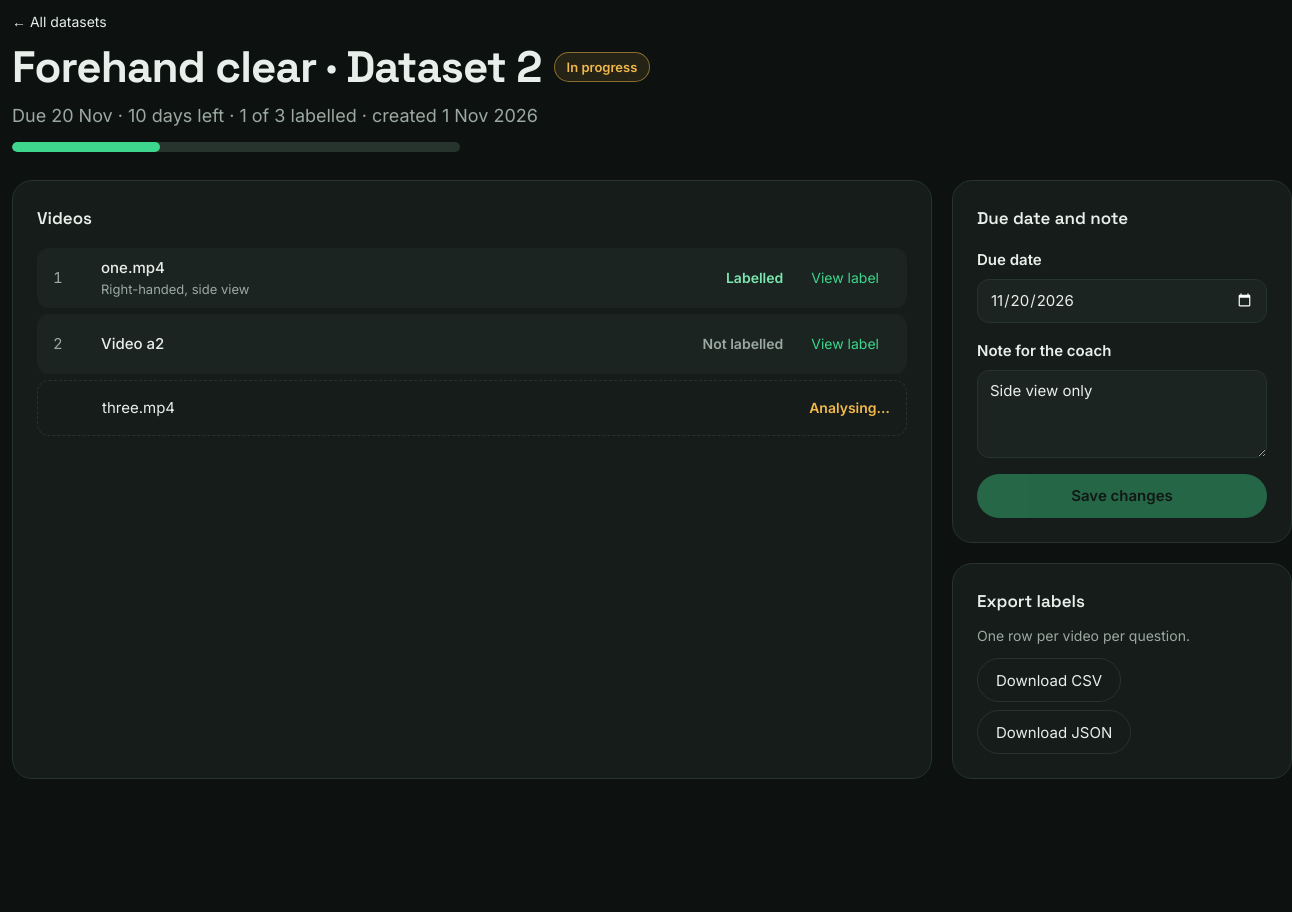
Test case: AdminDataset › saves a new due date
Expected: the button "Save changes" is disabled, x1=977 y1=474 x2=1267 y2=518
In the date field labelled "Due date": point(1122, 301) x1=977 y1=279 x2=1267 y2=323, type "2026-12-01"
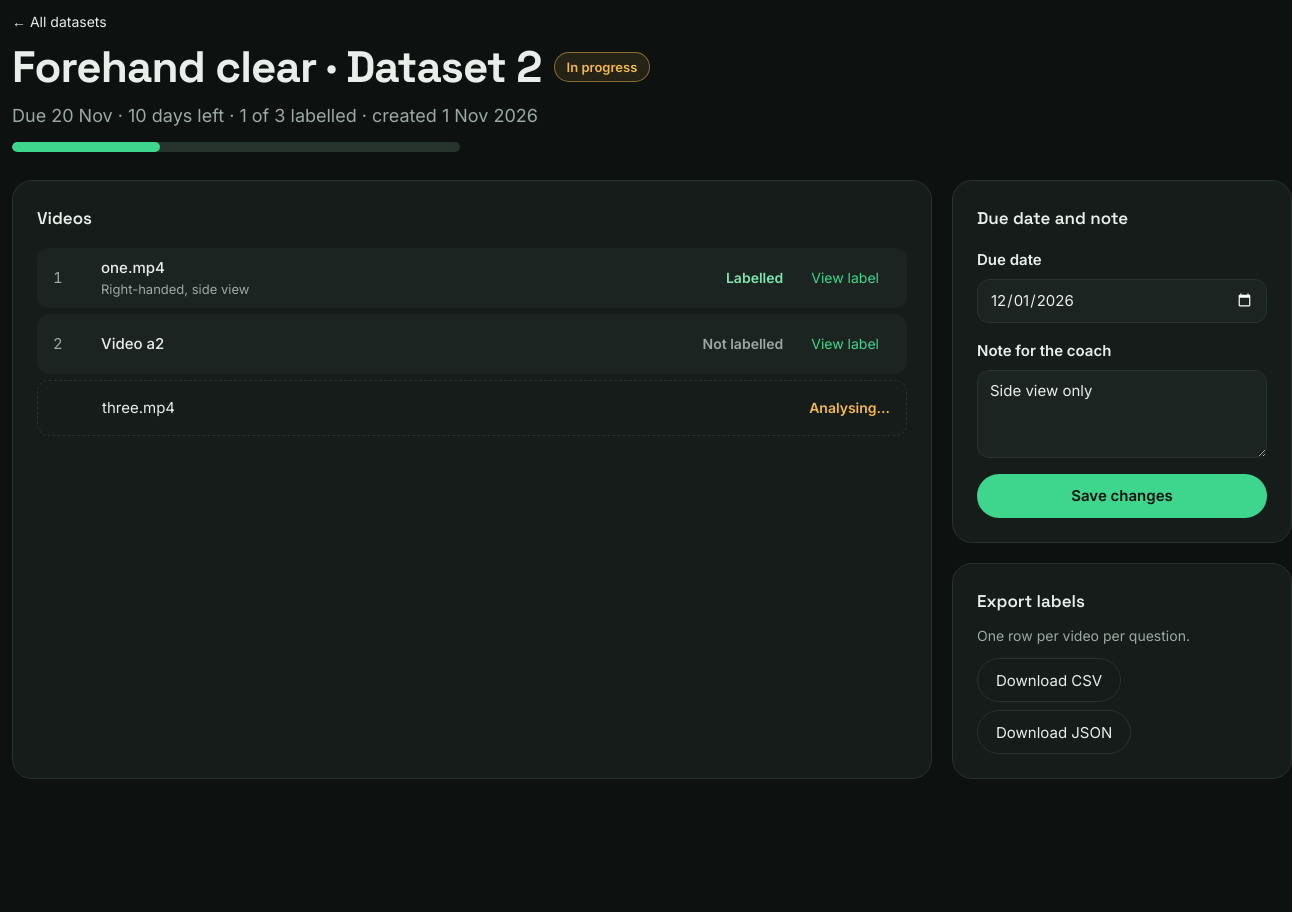
Click the button "Save changes": point(1122, 496) x1=977 y1=474 x2=1267 y2=518
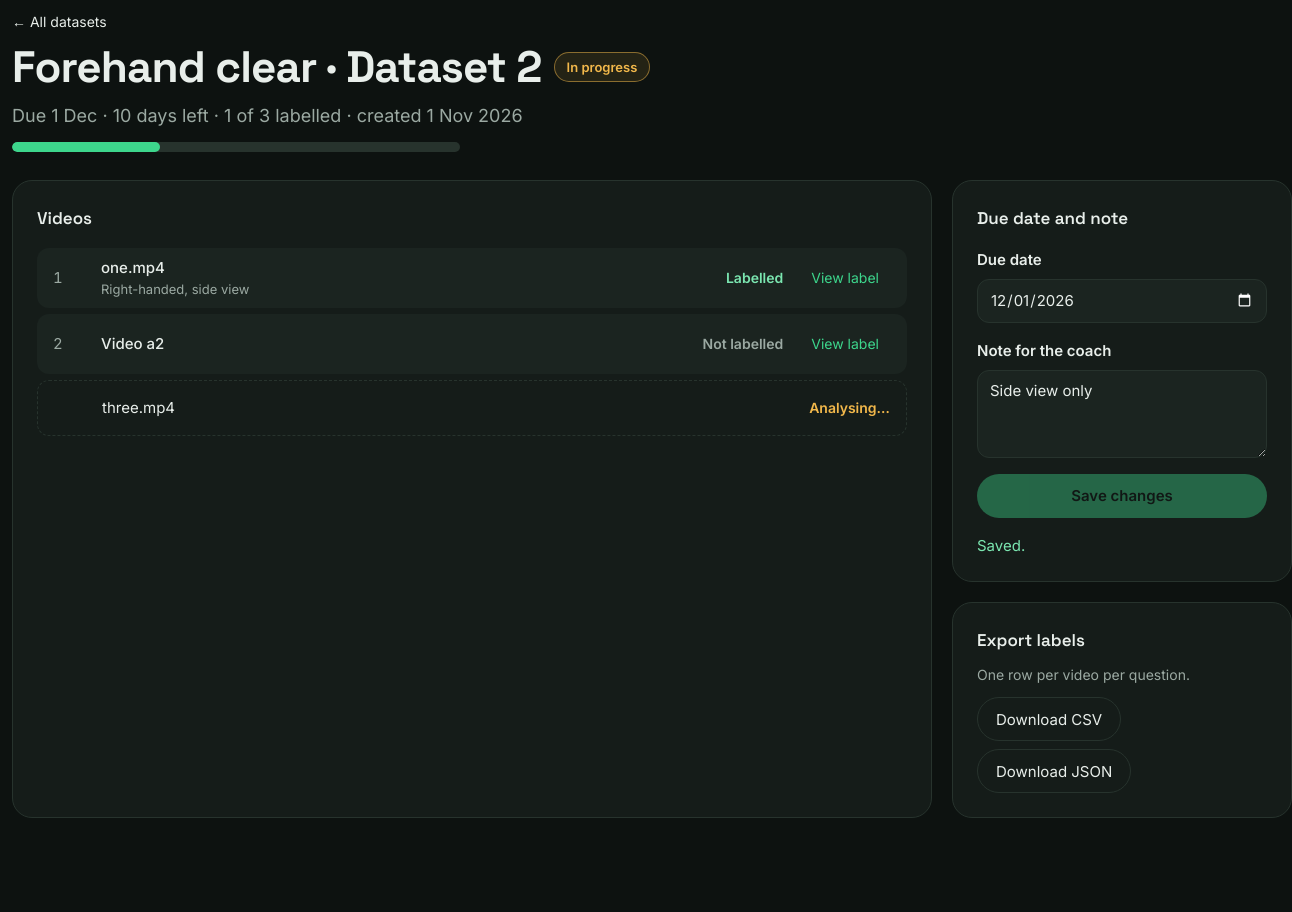
Result: the text "Saved." is shown at x1=977 y1=536 x2=1025 y2=555
